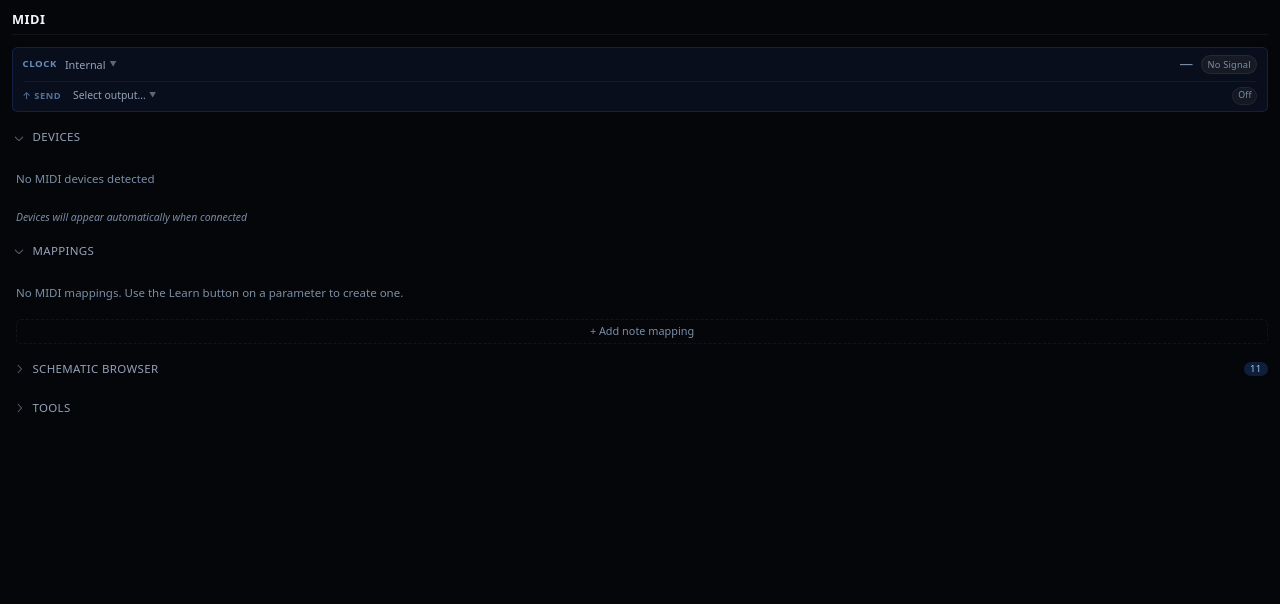
Test: MidiPanel › add note mapping form › shows error when submitting without parameter ID
The width and height of the screenshot is (1280, 604).
Step 1. Click the button "+ Add note mapping" → (642, 331), box [16,319,1268,344]
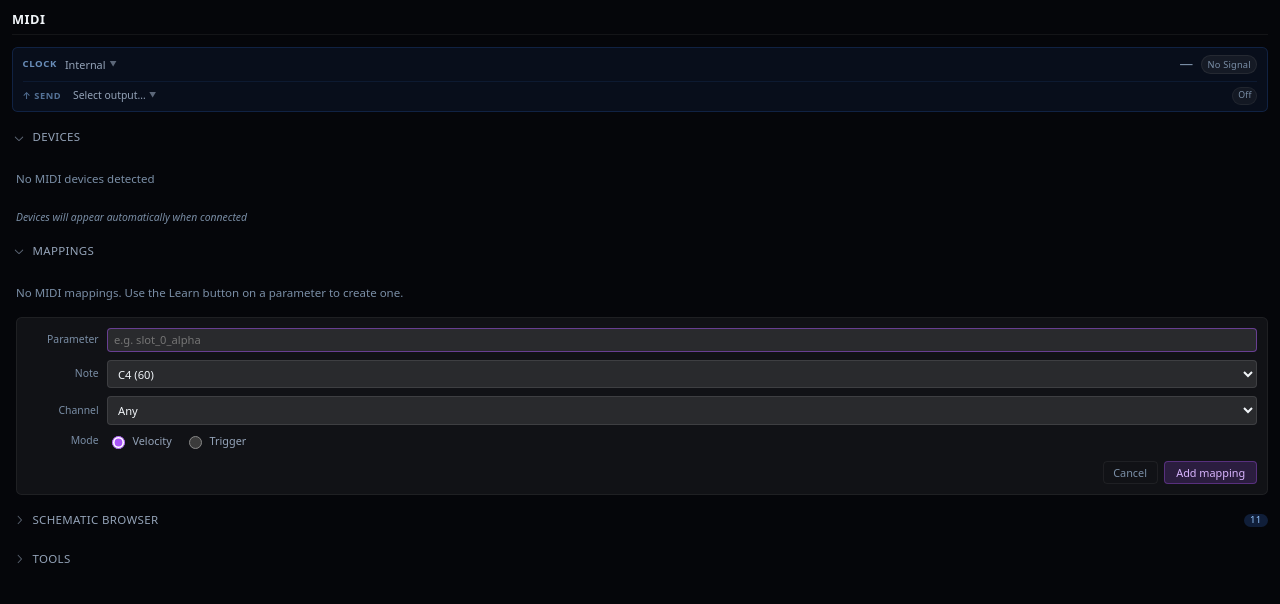
Step 2. Click the button "Add mapping" → (1211, 473), box [1164,461,1257,484]
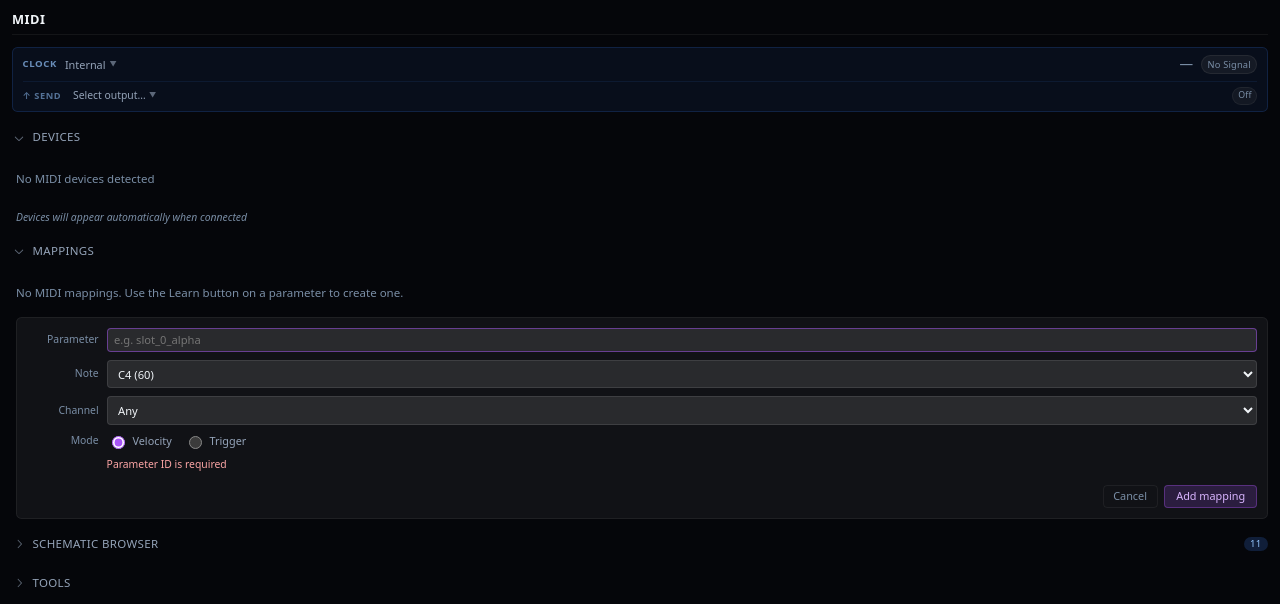
Now the text "Parameter ID is required" is shown, box [107,457,227,471]
